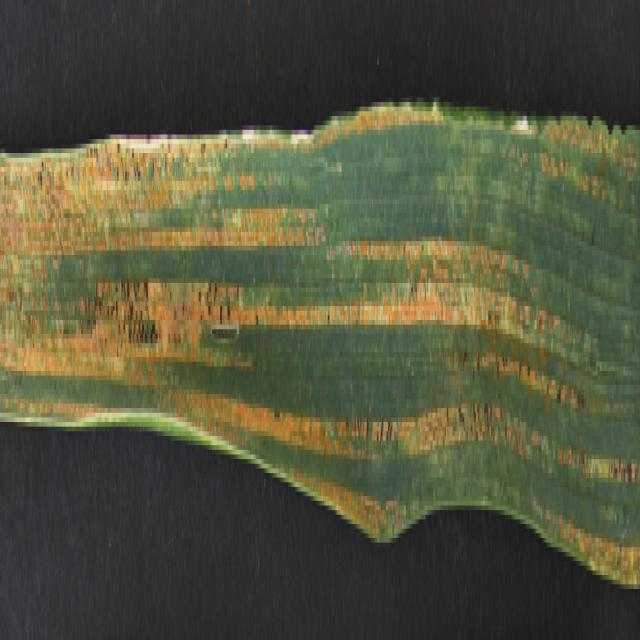leaf rust: (1, 4, 638, 570)
